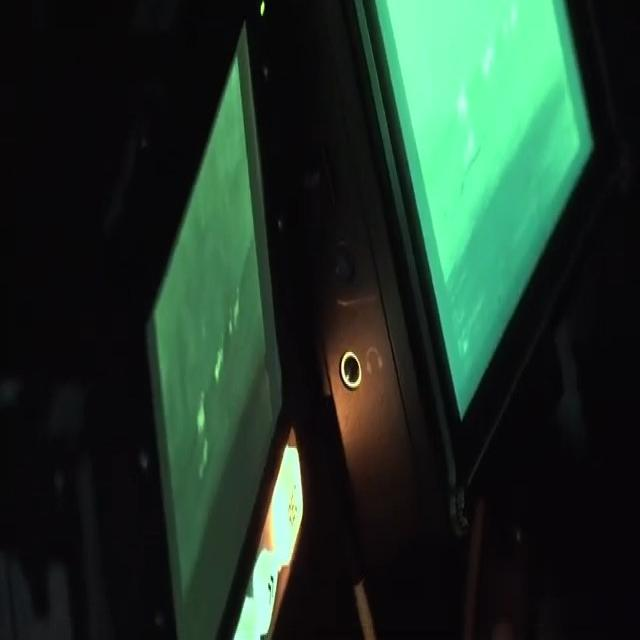device: (288, 1, 621, 544), (80, 1, 322, 640)
